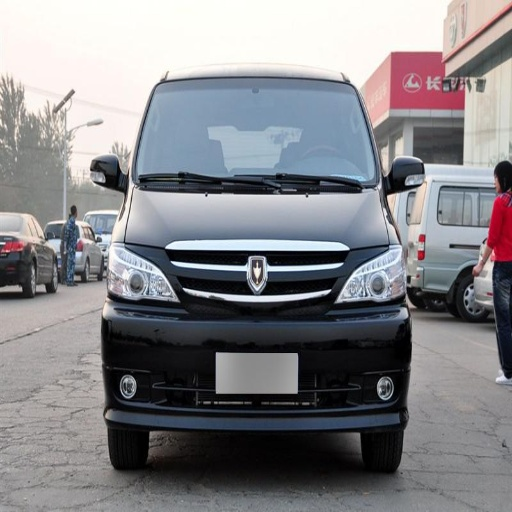front_bumper: (106, 246, 404, 423)
front_right_light: (107, 241, 174, 305)
hood: (124, 189, 389, 268)
left_mirror: (387, 157, 424, 194)
